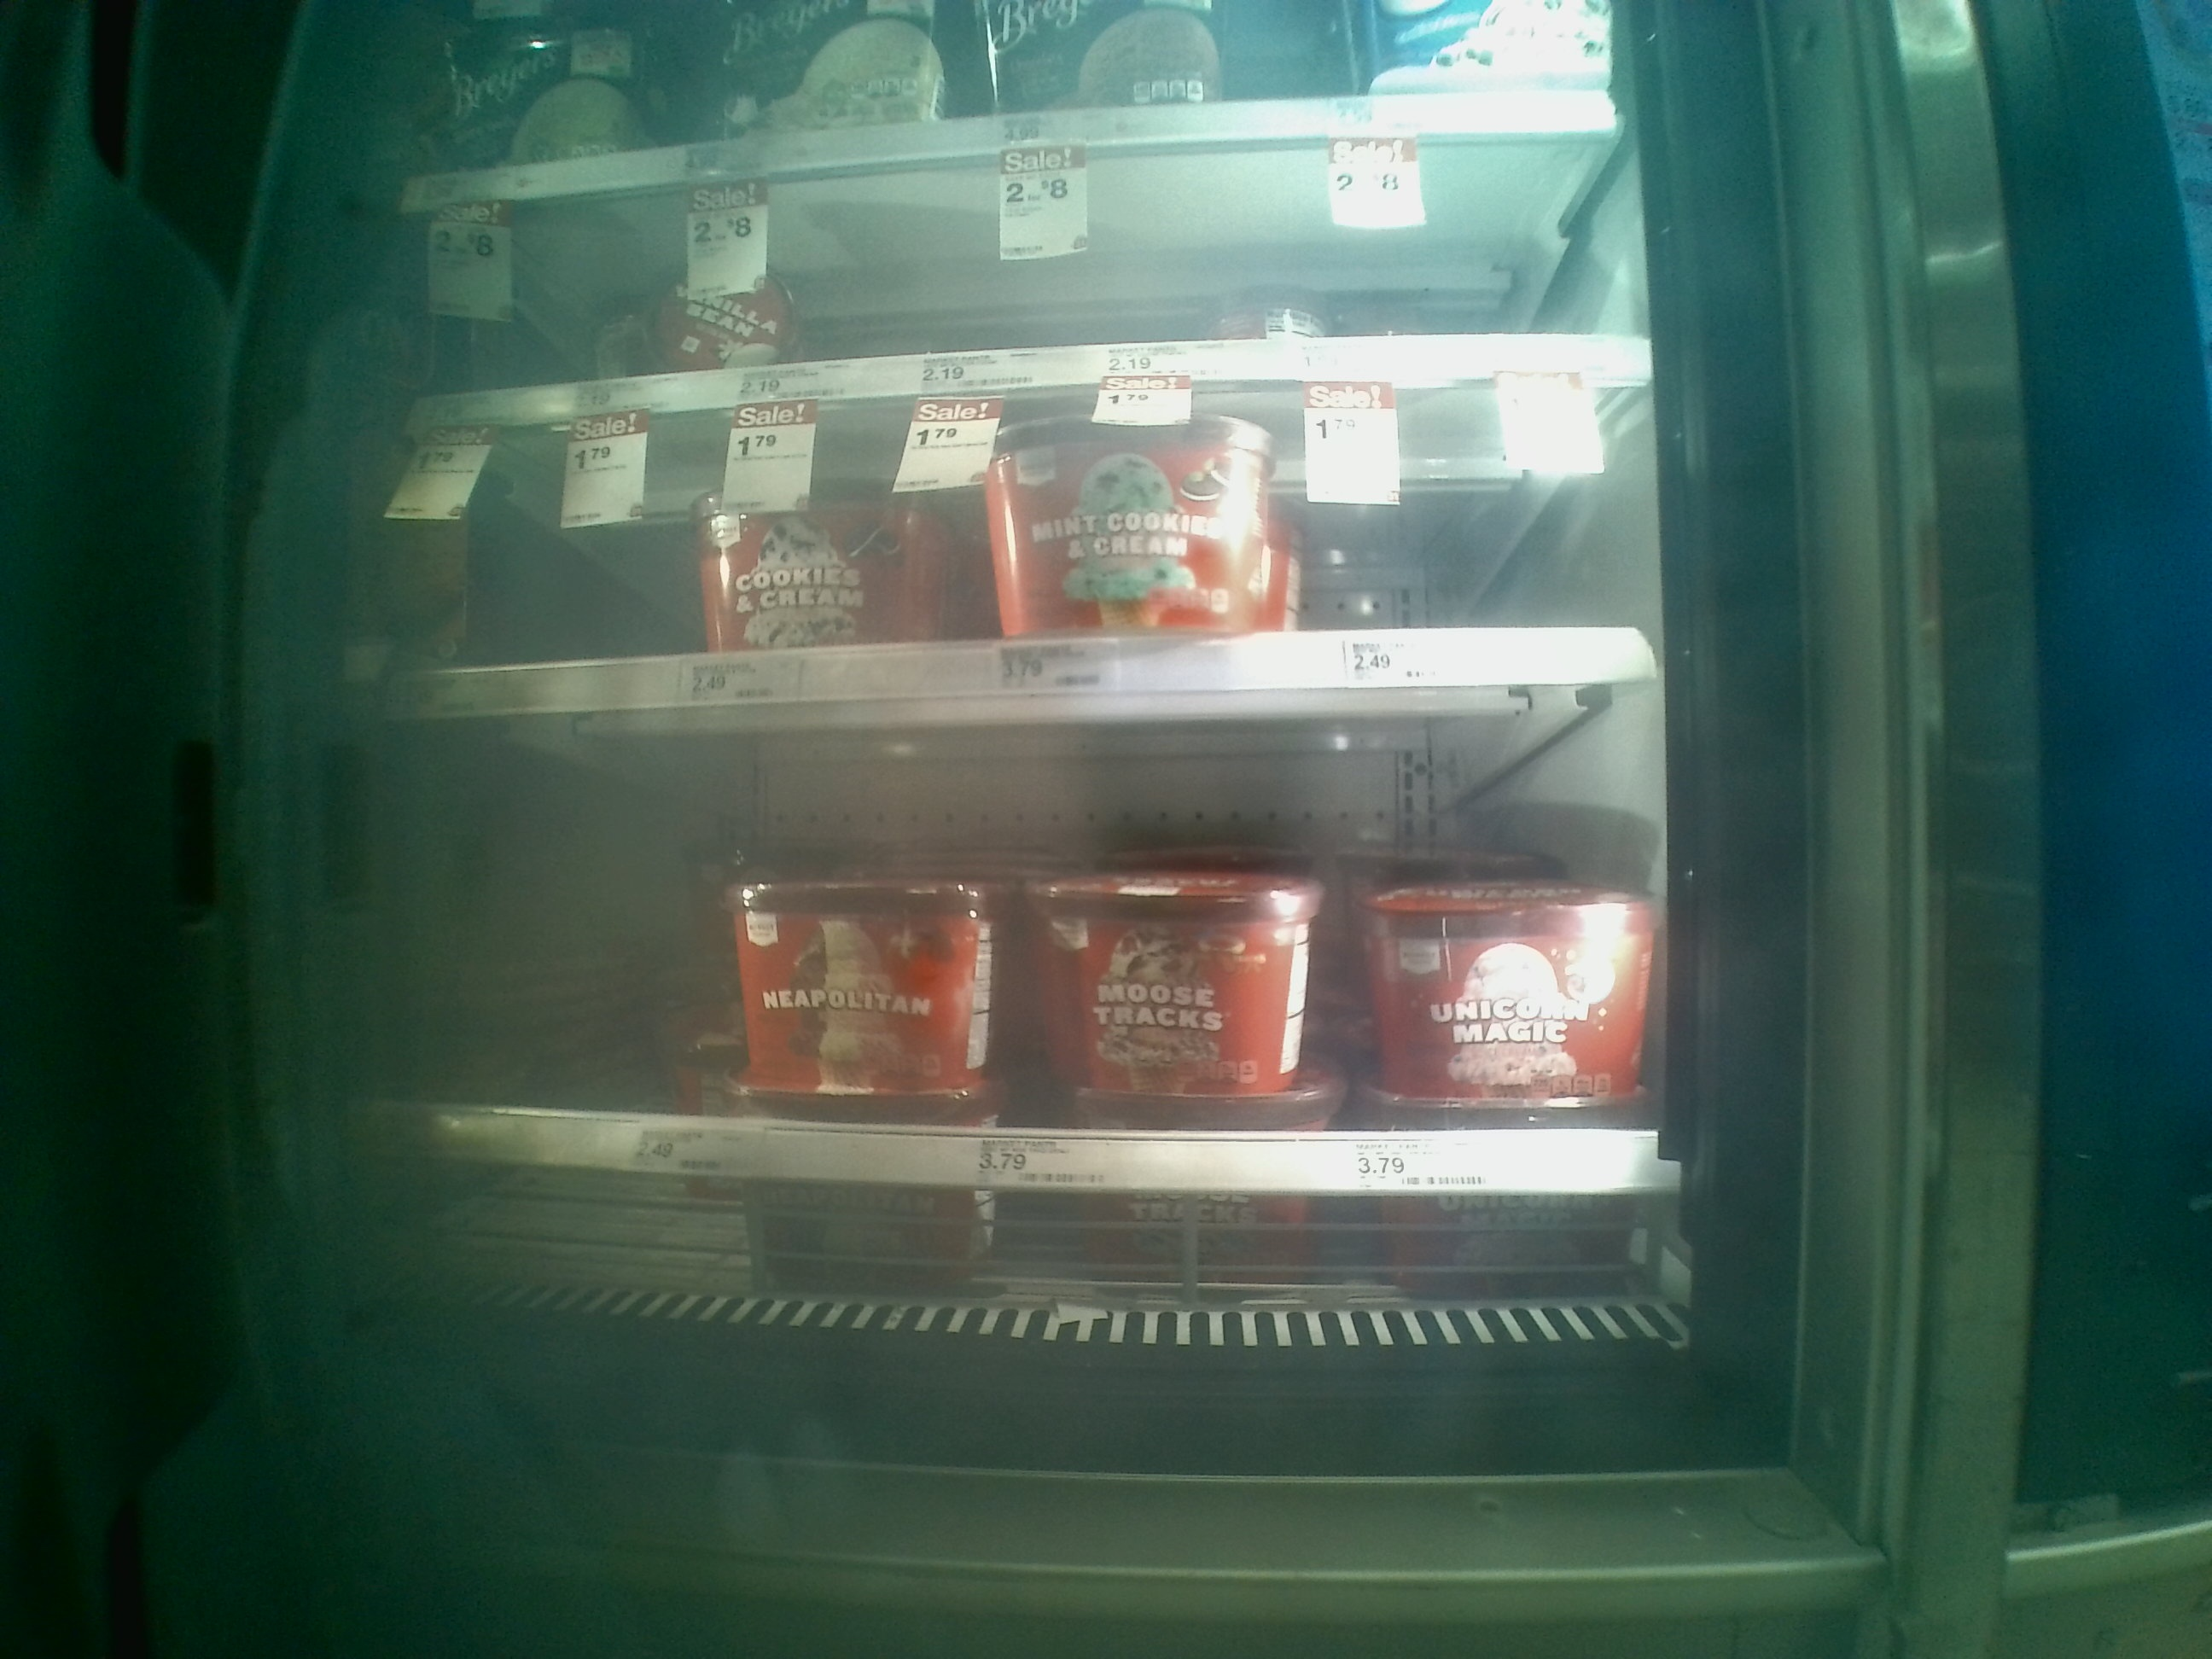ice-cream-shelf: (369, 741, 1660, 1302)
